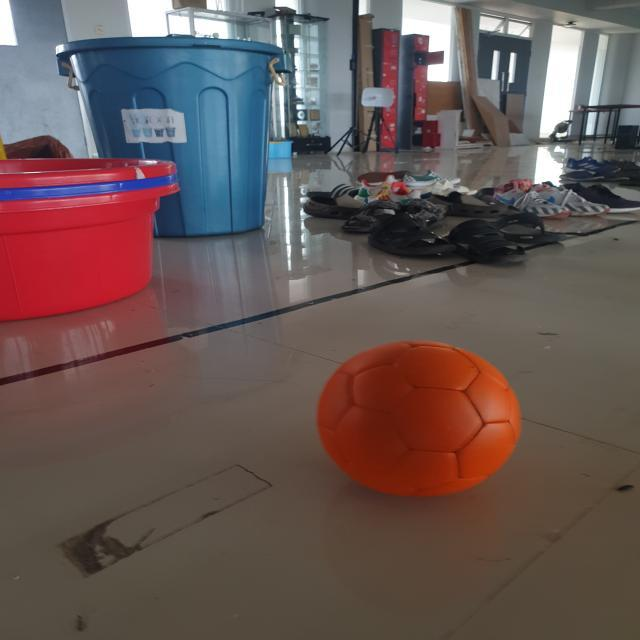bola: (308, 333, 534, 506)
